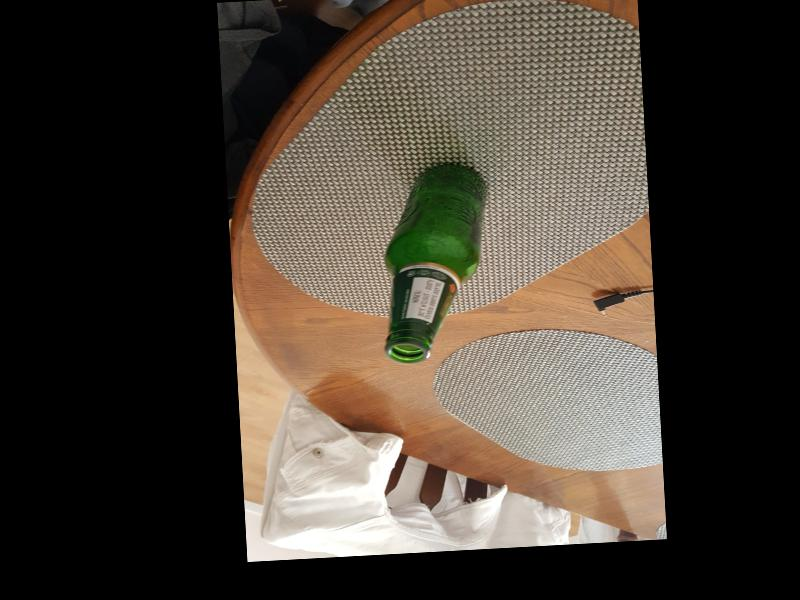Beer: (382, 162, 496, 361)
